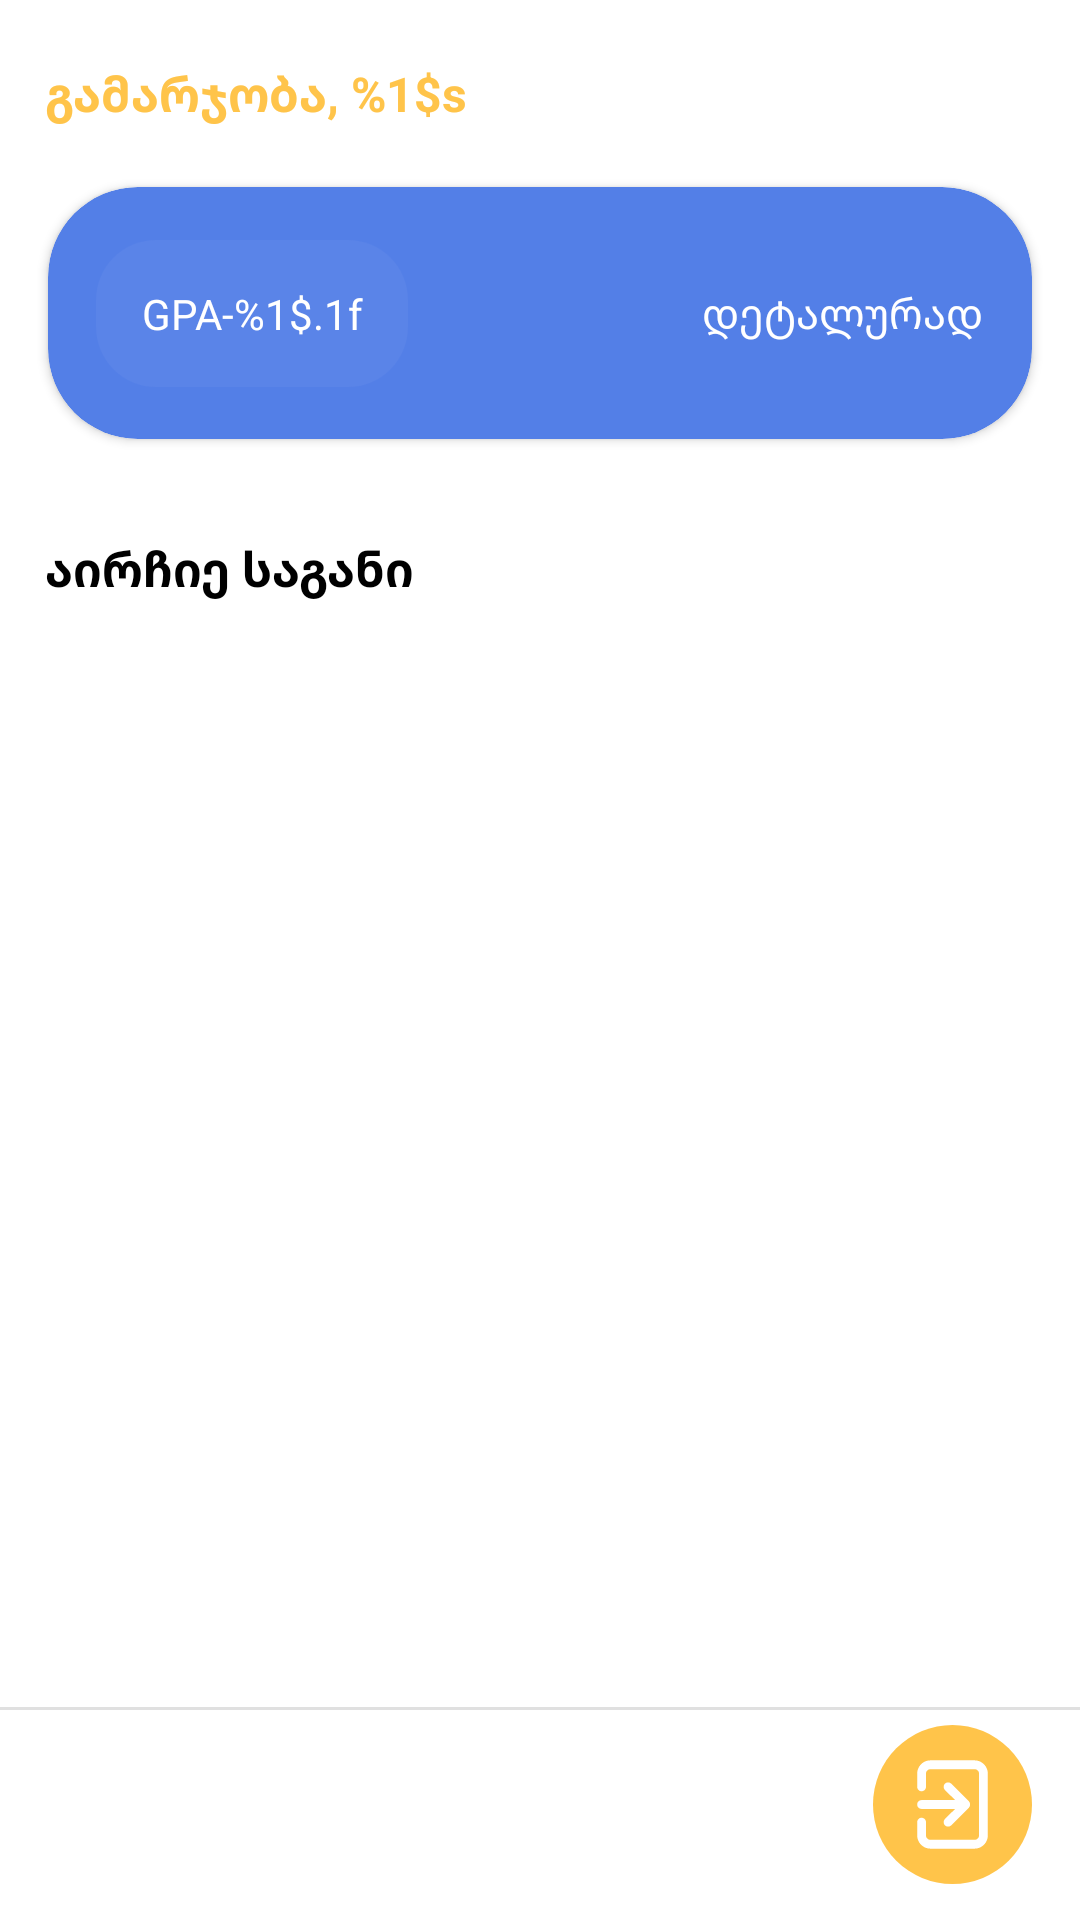

Icon bounding boxes for this 1080px×1920px phone screenshot, format (x1, y1, x2, y2):
log out: (873, 1725, 1032, 1884)
